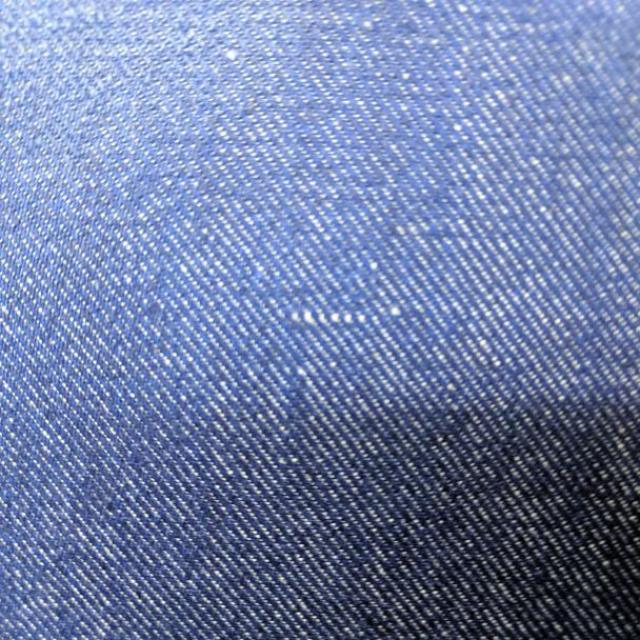Knot: (286, 308, 369, 327)
